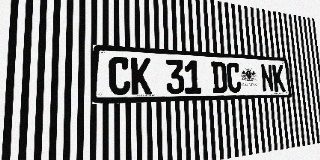1: (184, 60, 202, 94)
3: (166, 59, 184, 94)
C: (109, 56, 131, 95), (226, 62, 242, 93)
D: (211, 61, 227, 93)
K: (131, 57, 152, 95), (272, 64, 286, 92)
N: (260, 64, 274, 92)
